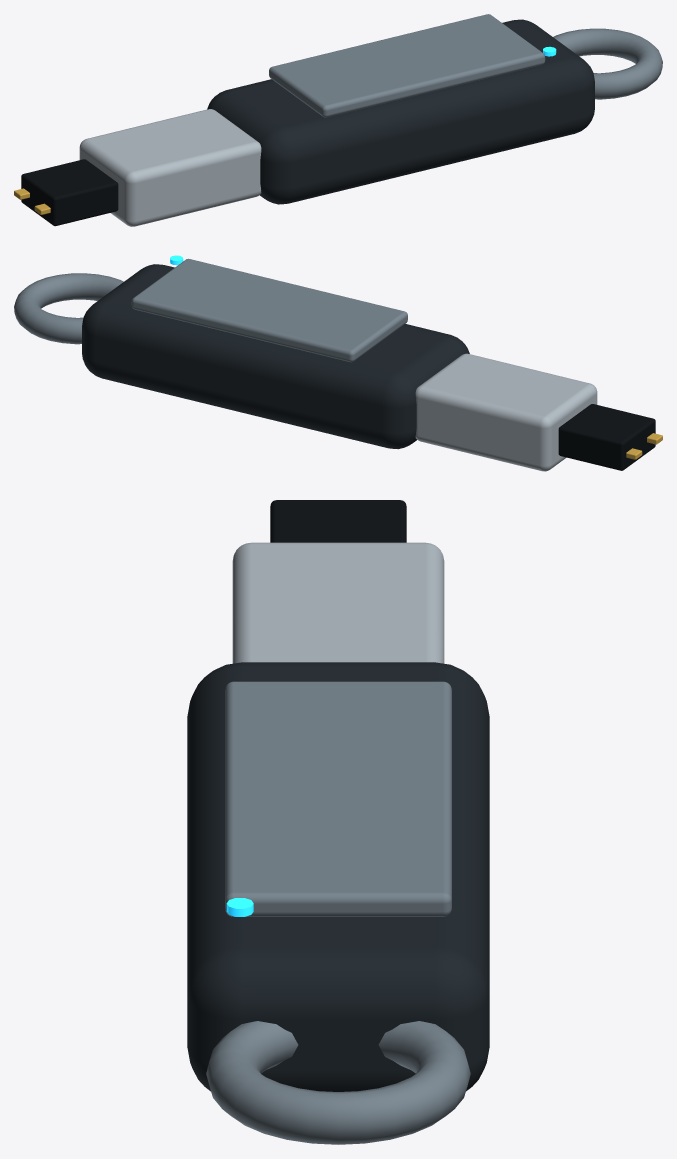
The model's file is usb-flash-drive.glb.
3 views of the same model, one above another, from view 1: azimuth 30°, elevation 25°; view 2: azimuth 150°, elevation 25°; view 3: azimuth 270°, elevation 25° (orthographic). The views are drawn at different scales.
Parts seen in each view (by area): view 1: Flash drive body, Brushed metal accent, USB-A connector, USB insert, Premium metal USB flash drive; view 2: Flash drive body, Brushed metal accent, USB-A connector, USB insert, Premium metal USB flash drive; view 3: Flash drive body, Brushed metal accent, USB-A connector, Premium metal USB flash drive, USB insert.
Boxes of the visible parts, x1,y1,x2,y2 form: Flash drive body: (207, 19, 594, 204); Brushed metal accent: (269, 14, 545, 117); USB-A connector: (79, 109, 261, 226); USB insert: (21, 159, 118, 226); Premium metal USB flash drive: (553, 28, 662, 99); Flash drive body: (82, 264, 469, 449); Brushed metal accent: (131, 258, 407, 362); USB-A connector: (415, 353, 597, 471); USB insert: (558, 404, 655, 470); Premium metal USB flash drive: (14, 273, 123, 344); Flash drive body: (187, 662, 489, 1091); Brushed metal accent: (225, 681, 451, 916); USB-A connector: (232, 542, 444, 663); Premium metal USB flash drive: (206, 1021, 470, 1144); USB insert: (270, 500, 406, 542).
Bounding box in the file's own units: 1.91 × 0.2575 × 0.4.
